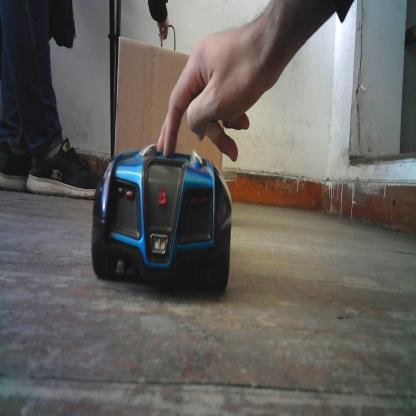LeadTruck: (113, 27, 225, 190)
